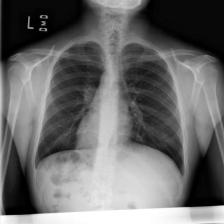normal: (29, 34, 191, 192)
